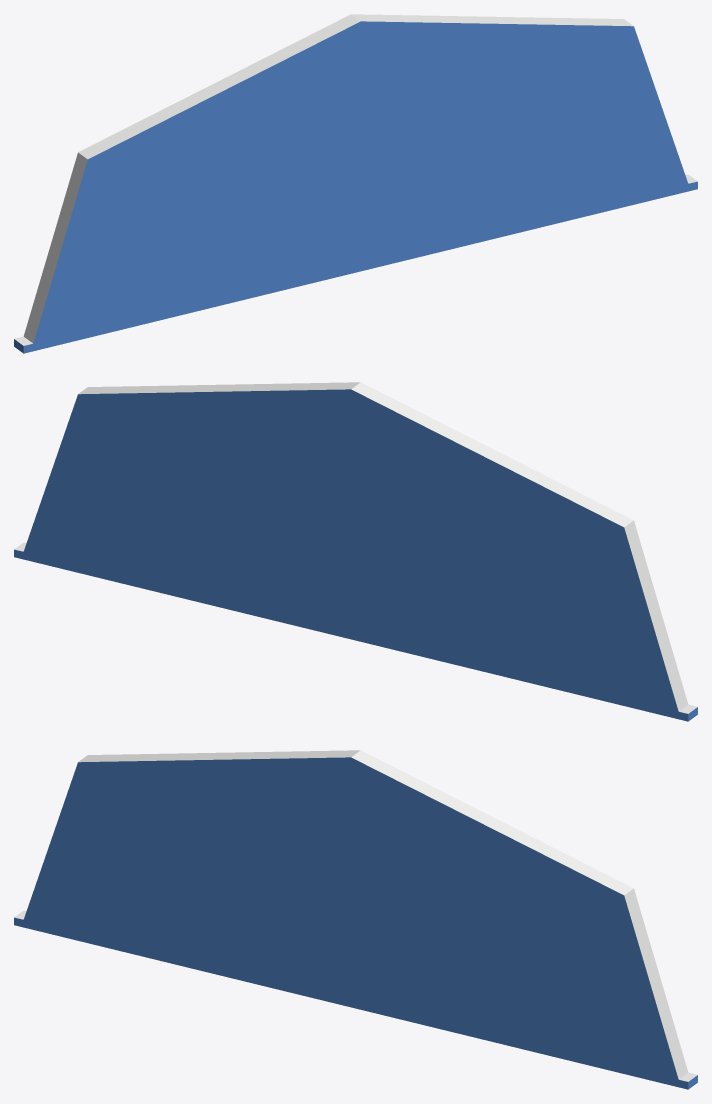
Rendered from telhado_mansarda_oitao_v6.glb.
3 renders of one model, top to bottom at view 1: azimuth 30°, elevation 25°; view 2: azimuth 150°, elevation 25°; view 3: azimuth 330°, elevation 25°, orthographic.
Visible parts, largest first — view 1: telhado_mansarda_oitao_v6; view 2: telhado_mansarda_oitao_v6; view 3: telhado_mansarda_oitao_v6.
Boxes of the visible parts, box(x1,y1,x2,y2) form: telhado_mansarda_oitao_v6: box(14, 14, 697, 353); telhado_mansarda_oitao_v6: box(14, 382, 697, 721); telhado_mansarda_oitao_v6: box(14, 750, 697, 1089).
Size of the model in its own units: 6 by 2.13 by 0.15.
